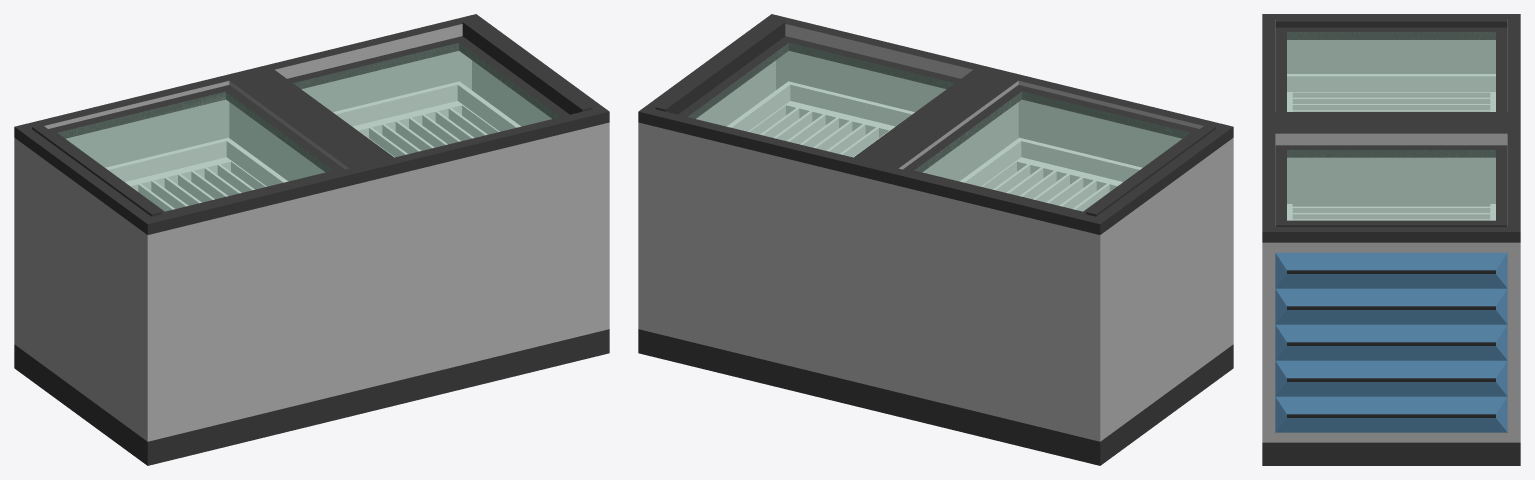
File: Icecream Fridge.fbx
3 renders of one model, left to right at view 1: azimuth 30°, elevation 25°; view 2: azimuth 150°, elevation 25°; view 3: azimuth 270°, elevation 25°, orthographic. The views are drawn at different scales.
Visible parts, largest first — view 1: Icecream Fridge, Icecream Fridge Door 2, Icecream Fridge Door 1, Icecream Fridge Shelf 2, Icecream Fridge Shelf 1; view 2: Icecream Fridge, Icecream Fridge Door 2, Icecream Fridge Door 1, Icecream Fridge Shelf 2, Icecream Fridge Shelf 1; view 3: Icecream Fridge, Icecream Fridge Door 2, Icecream Fridge Door 1, Icecream Fridge Shelf 1, Icecream Fridge Shelf 2.
Boxes of the visible parts, bbox=[...] form: Icecream Fridge: bbox=[14, 14, 609, 465]; Icecream Fridge Door 2: bbox=[32, 85, 344, 216]; Icecream Fridge Door 1: bbox=[287, 19, 592, 157]; Icecream Fridge Shelf 2: bbox=[333, 81, 520, 157]; Icecream Fridge Shelf 1: bbox=[105, 137, 287, 211]; Icecream Fridge: bbox=[638, 14, 1233, 465]; Icecream Fridge Door 2: bbox=[903, 85, 1215, 216]; Icecream Fridge Door 1: bbox=[655, 19, 960, 157]; Icecream Fridge Shelf 2: bbox=[727, 81, 914, 157]; Icecream Fridge Shelf 1: bbox=[960, 137, 1142, 211]; Icecream Fridge: bbox=[1262, 14, 1520, 465]; Icecream Fridge Door 2: bbox=[1275, 17, 1507, 112]; Icecream Fridge Door 1: bbox=[1275, 145, 1507, 226]; Icecream Fridge Shelf 1: bbox=[1287, 74, 1495, 111]; Icecream Fridge Shelf 2: bbox=[1287, 204, 1495, 220].
Size of the model in its own units: 605 by 303 by 300.
